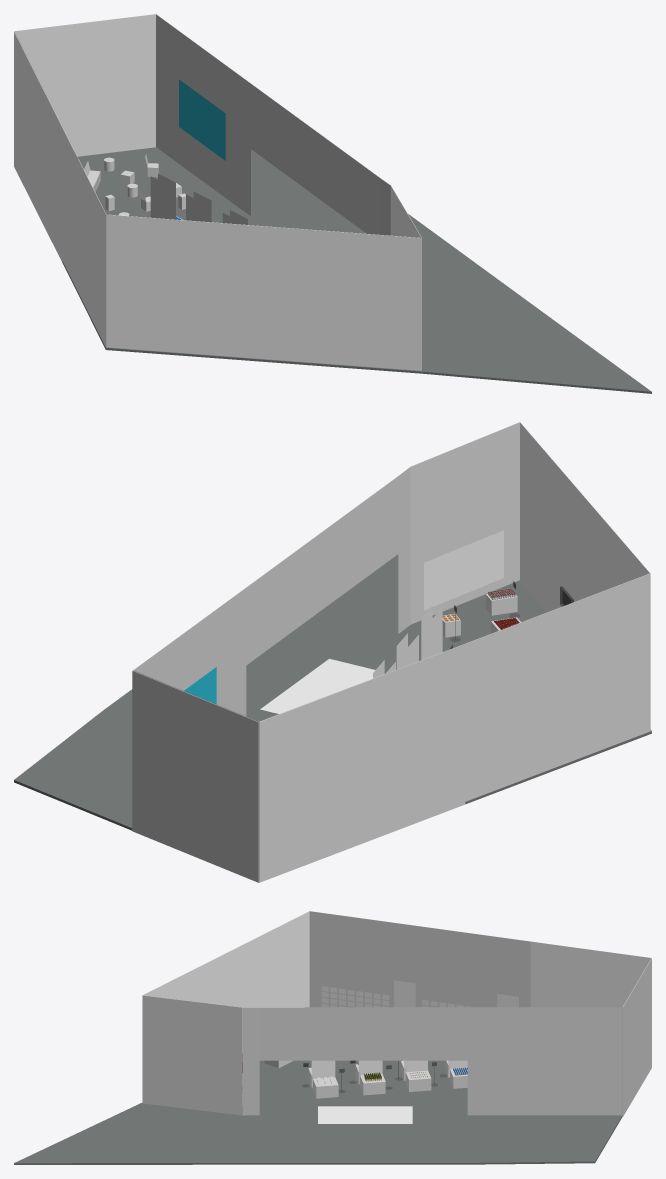
The model's file is taiwan test.glb.
3 views of the same model, one above another, from view 1: azimuth 30°, elevation 25°; view 2: azimuth 150°, elevation 25°; view 3: azimuth 270°, elevation 25° (orthographic). The views are drawn at different scales.
Visible parts, largest first — view 1: Cube.015; view 2: Cube.015; view 3: Cube.015.
Boxes of the visible parts, <box> form: Cube.015: <box>14,14,651,393</box>; Cube.015: <box>14,422,651,882</box>; Cube.015: <box>14,911,651,1164</box>.
Size of the model in its own units: 18.02 by 6.39 by 33.63.
